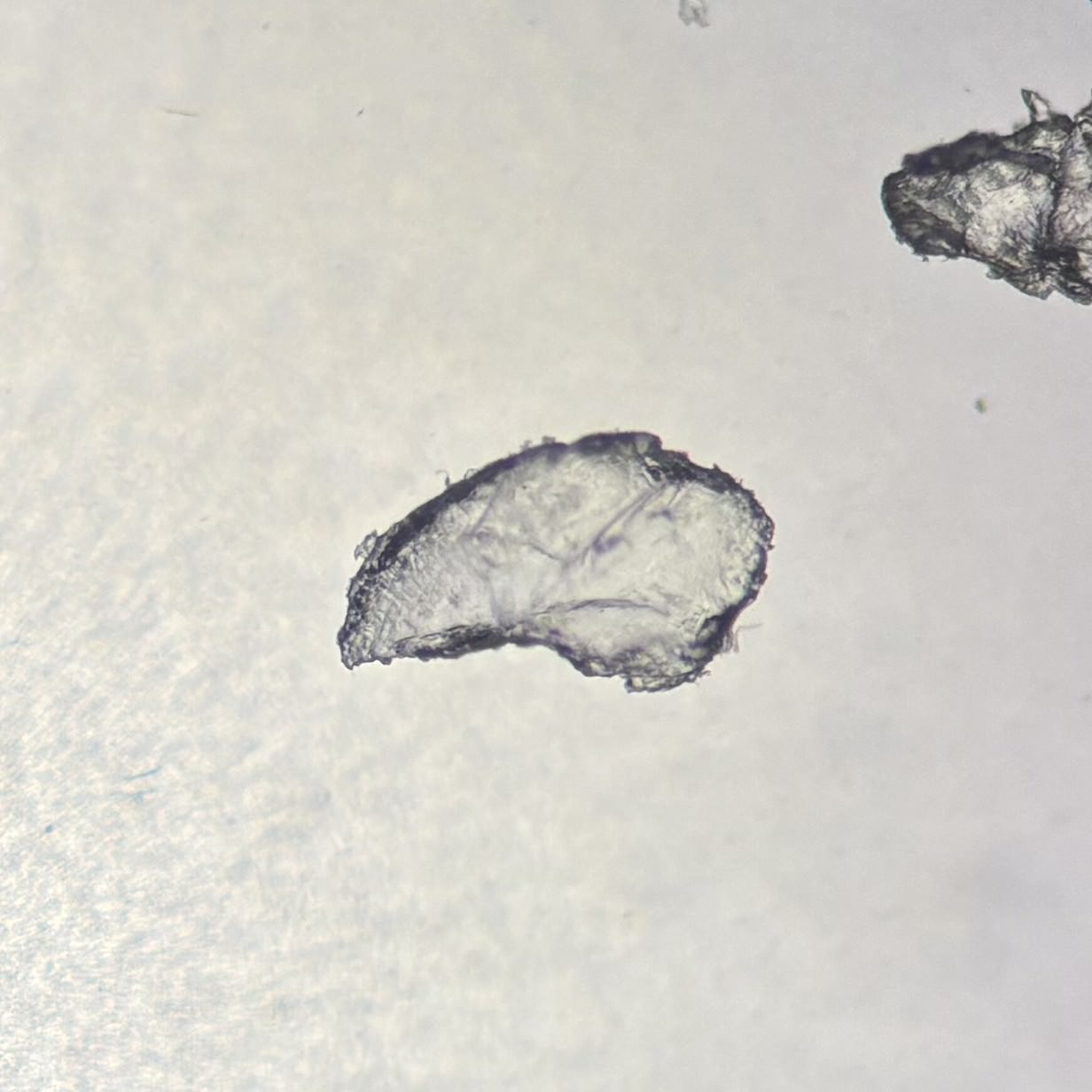microplastic: (336, 428, 776, 696), (880, 88, 1092, 306)
